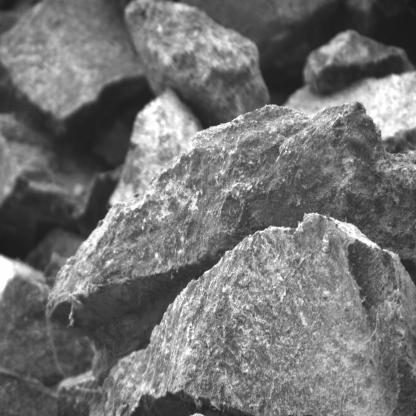stone: (45, 99, 416, 385), (88, 212, 416, 416), (122, 0, 270, 128), (0, 0, 142, 120), (304, 28, 412, 94)
